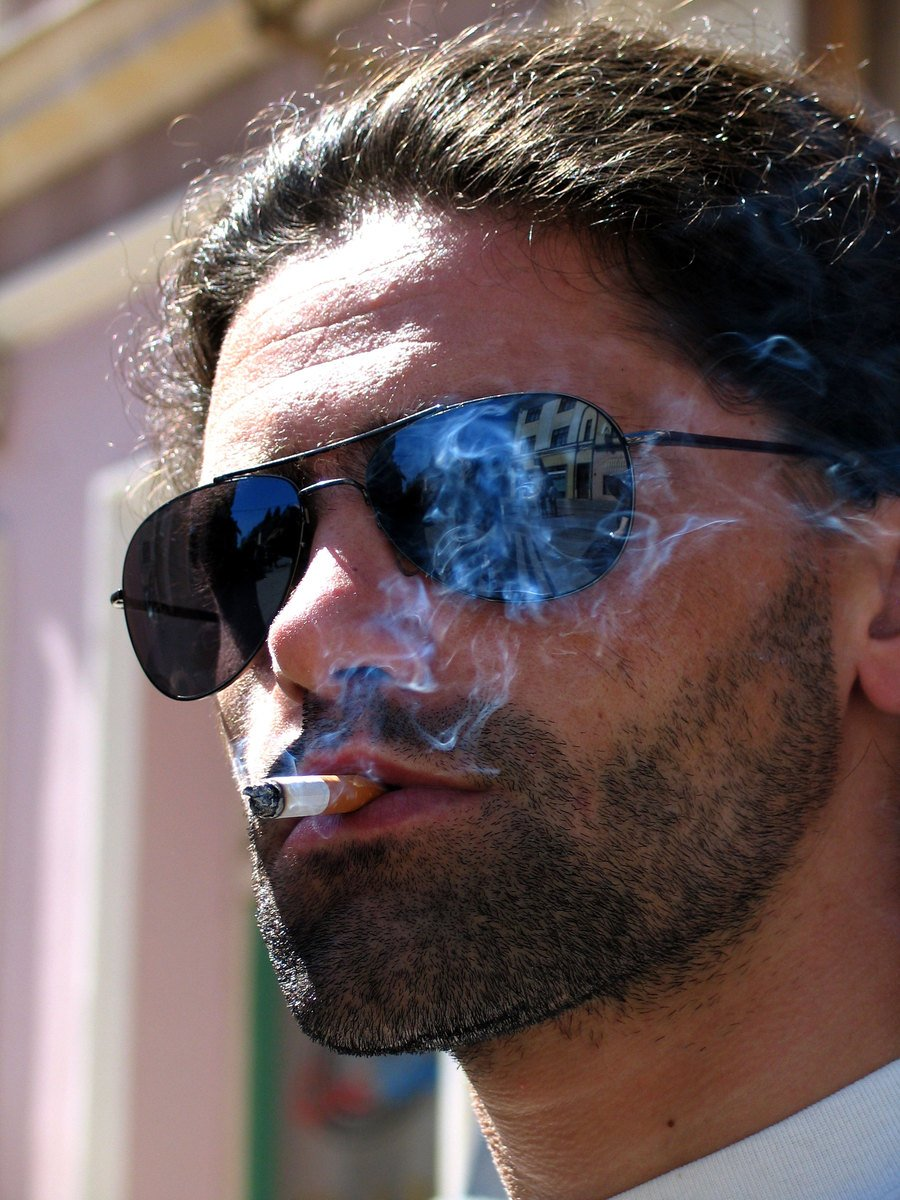cigarette: (244, 769, 394, 820)
